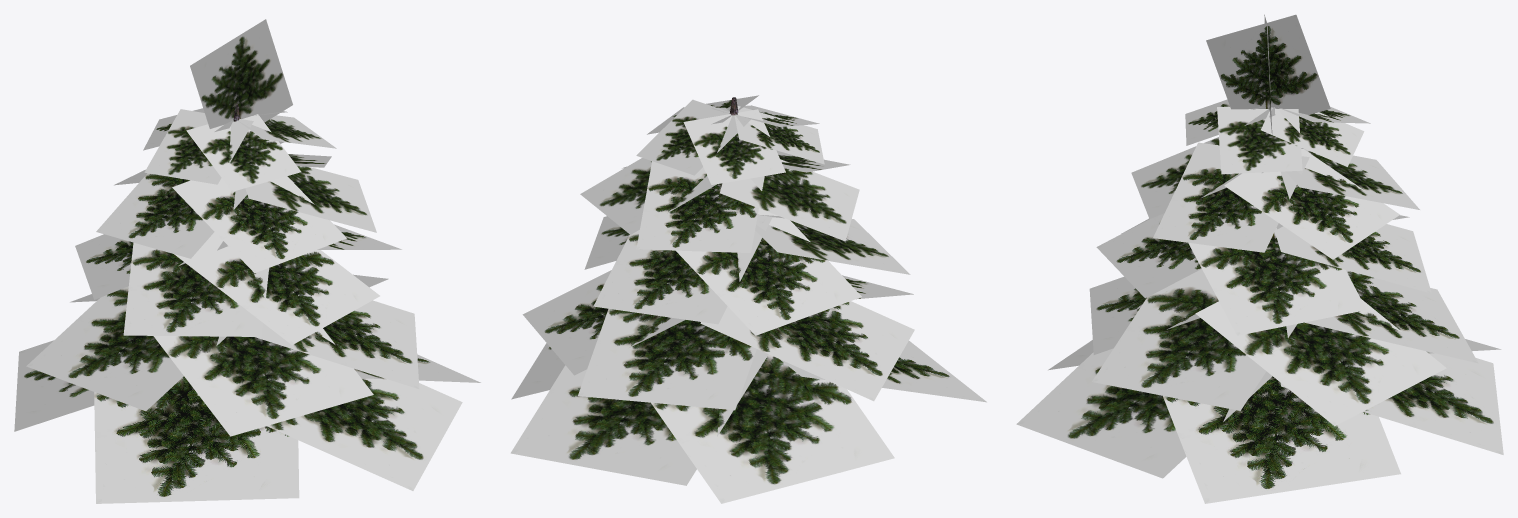
The model's file is pine_1.obj.
3 views of the same model, side by side, from view 1: azimuth 30°, elevation 25°; view 2: azimuth 150°, elevation 25°; view 3: azimuth 270°, elevation 25° (orthographic). The views are drawn at different scales.
Visible parts, largest first — view 1: branches; view 2: branches; view 3: branches.
Part boxes in pixels (x1,y1,x2,y2): branches: (14,19,480,503); branches: (510,95,986,503); branches: (1016,14,1503,503).
Size of the model in its own units: 206 by 201 by 210.
2 materials, 2 textured.
